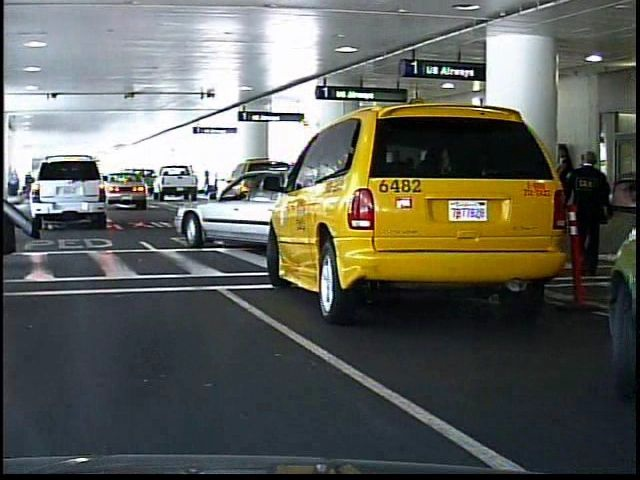person: (572, 149, 618, 281), (545, 140, 574, 251), (211, 168, 220, 197)
